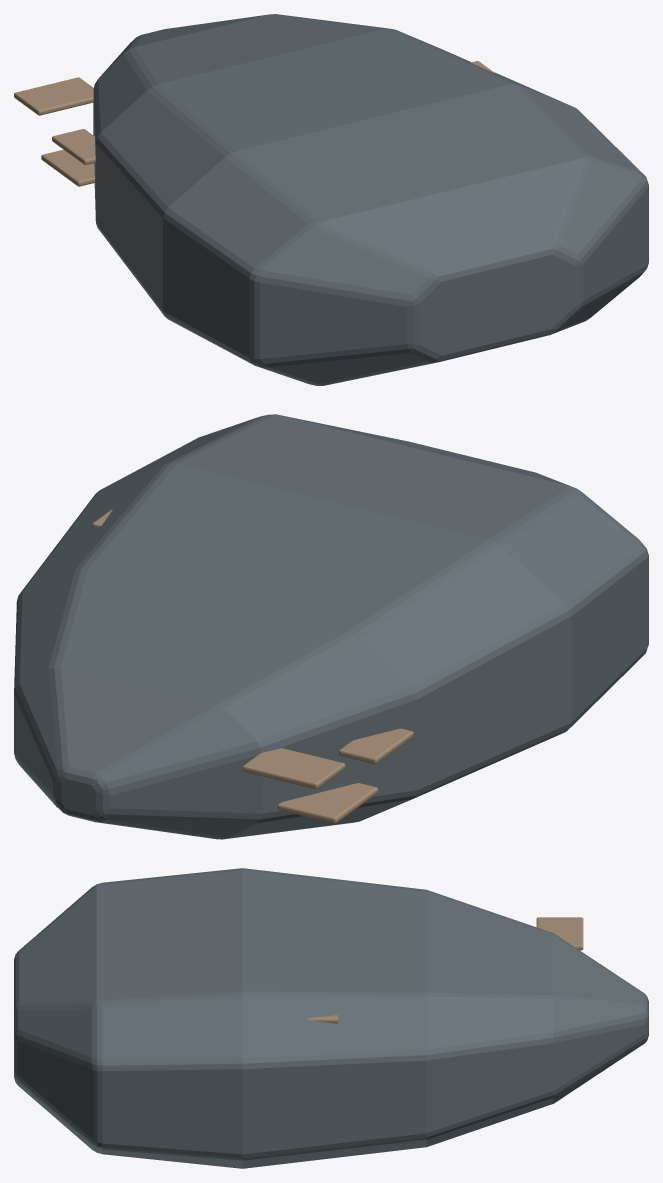
The model's file is wreck.glb.
The picture shows the model from 3 angles, top to bottom: view 1: azimuth 30°, elevation 25°; view 2: azimuth 150°, elevation 25°; view 3: azimuth 270°, elevation 25°; orthographic projection. The views are drawn at different scales.
Parts seen in each view (by area): view 1: deepforge_dark.007, deepforge_hull.003; view 2: deepforge_dark.007, deepforge_hull.003; view 3: deepforge_dark.007, deepforge_hull.003.
Boxes of the visible parts, left/top/right/bottom form: deepforge_dark.007: left=93, top=14, right=648, bottom=385; deepforge_hull.003: left=14, top=61, right=494, bottom=186; deepforge_dark.007: left=14, top=414, right=648, bottom=839; deepforge_hull.003: left=92, top=509, right=413, bottom=823; deepforge_dark.007: left=14, top=868, right=648, bottom=1168; deepforge_hull.003: left=307, top=917, right=583, bottom=1023.
Size of the model in its own units: 16 by 7 by 23.
